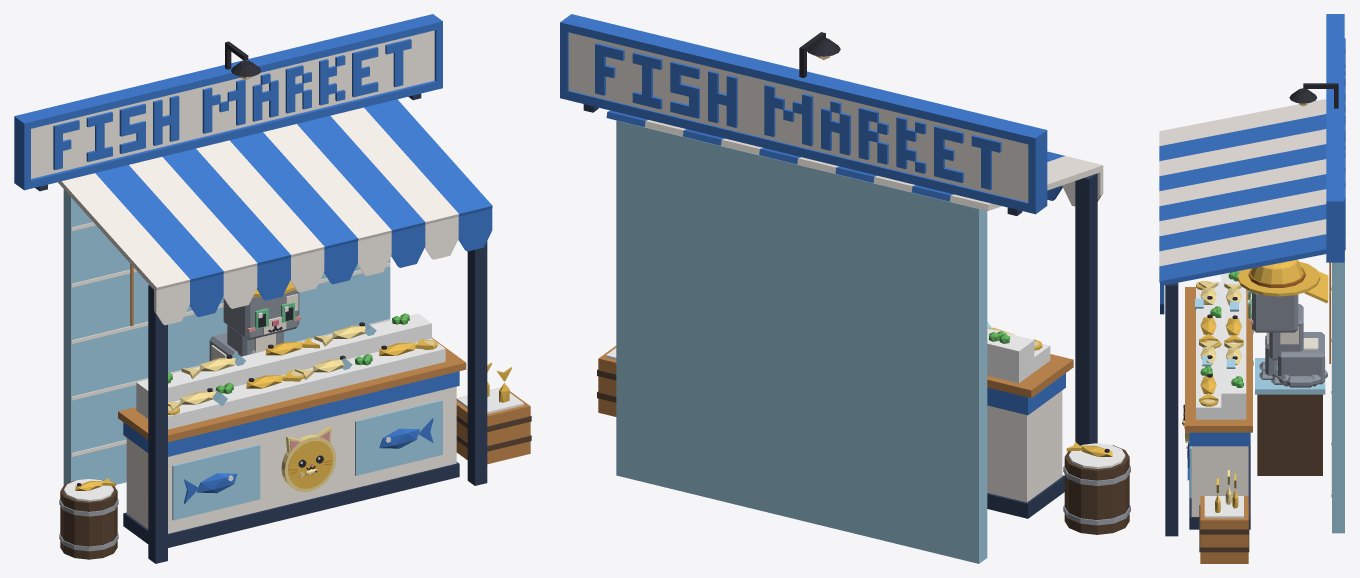
The model's file is CatCafe_Street_FishMarket.glb.
3 renders of one model, left to right at view 1: azimuth 30°, elevation 25°; view 2: azimuth 150°, elevation 25°; view 3: azimuth 270°, elevation 25°, orthographic. The views are drawn at different scales.
Parts seen in each view (by area): view 1: CatCafe_Street_FishMarket, CatCafe_Street_FishMarket_Coin, CatCafe_Street_FishMarket_Cat_Head, CatCafe_Street_FishMarket_Cat_Body; view 2: CatCafe_Street_FishMarket; view 3: CatCafe_Street_FishMarket, CatCafe_Street_FishMarket_Cat_Prop, CatCafe_Street_FishMarket_Cat_Body, CatCafe_Street_FishMarket_Cat_Head, CatCafe_Street_FishMarket_Cat_Tail, CatCafe_Street_FishMarket_Cat_LegF1.
Part boxes in pixels (<box>): CatCafe_Street_FishMarket: <box>14,14,531,563</box>; CatCafe_Street_FishMarket_Coin: <box>281,426,336,492</box>; CatCafe_Street_FishMarket_Cat_Head: <box>223,290,300,339</box>; CatCafe_Street_FishMarket_Cat_Body: <box>209,325,283,360</box>; CatCafe_Street_FishMarket: <box>560,14,1130,563</box>; CatCafe_Street_FishMarket: <box>1159,14,1345,563</box>; CatCafe_Street_FishMarket_Cat_Prop: <box>1237,259,1328,303</box>; CatCafe_Street_FishMarket_Cat_Body: <box>1266,304,1324,384</box>; CatCafe_Street_FishMarket_Cat_Head: <box>1248,292,1298,332</box>; CatCafe_Street_FishMarket_Cat_Tail: <box>1272,368,1327,387</box>; CatCafe_Street_FishMarket_Cat_LegF1: <box>1259,343,1277,379</box>.
Size of the model in its own units: 10.94 by 9.5 by 4.25.
1 material, 1 textured.
